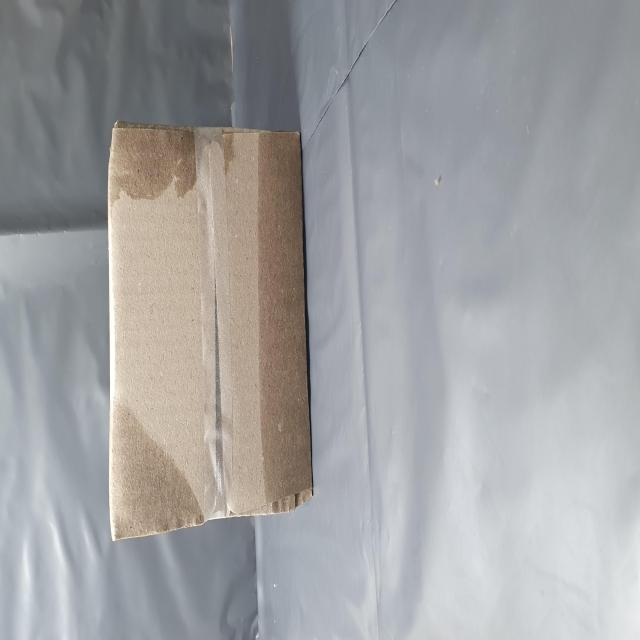wet: (77, 438, 288, 548), (55, 178, 132, 359), (230, 189, 292, 357)
